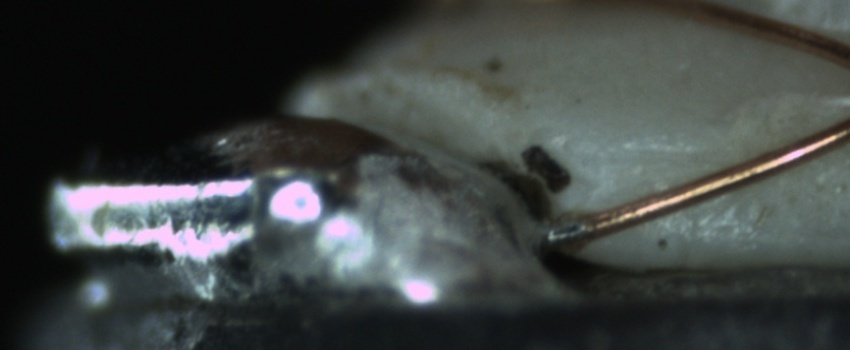DL: (597, 124, 728, 184)
TS: (545, 218, 590, 245)
